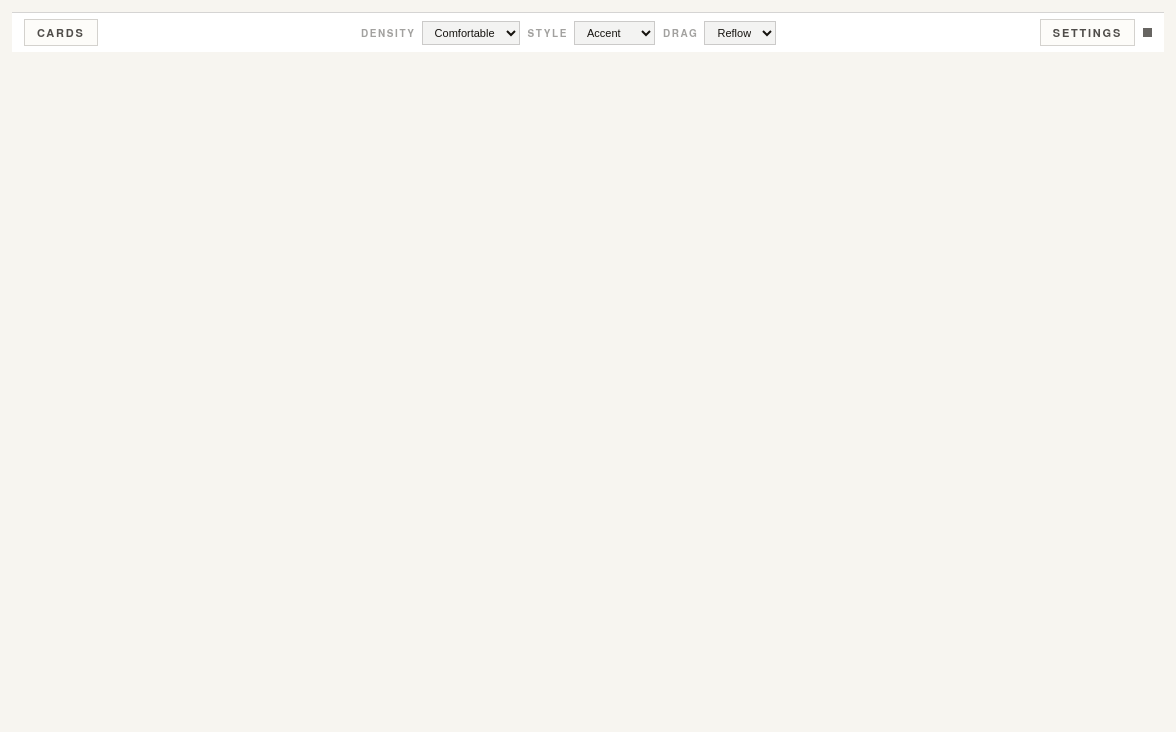
Test: <BottomNav> Cards menu › opens on click and closes when clicking outside the menu
The width and height of the screenshot is (1176, 732).
Click the button "Cards": point(61, 32) [24, 19, 98, 46]
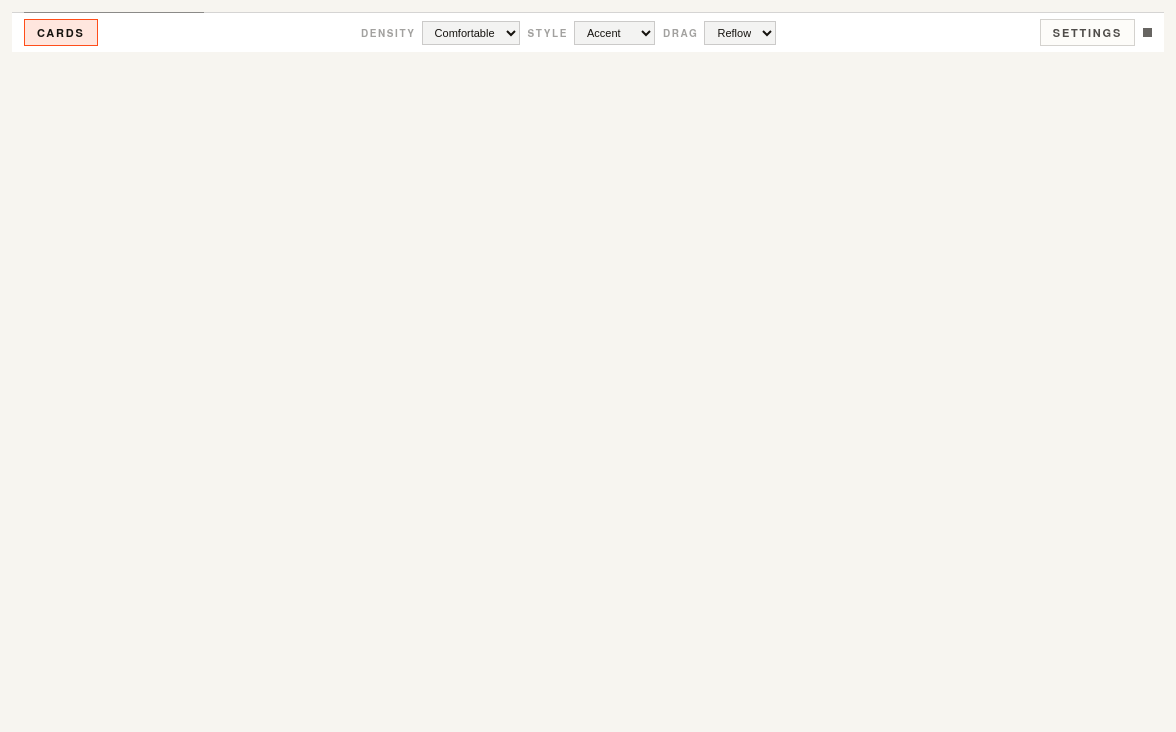
Expected: the button "Cards" is expanded, [24, 19, 98, 46]
The full-viewport scrim is what actually catches an "anywhere else" click.
Click the button named "close cards menu": point(588, 372) [12, 12, 1164, 731]
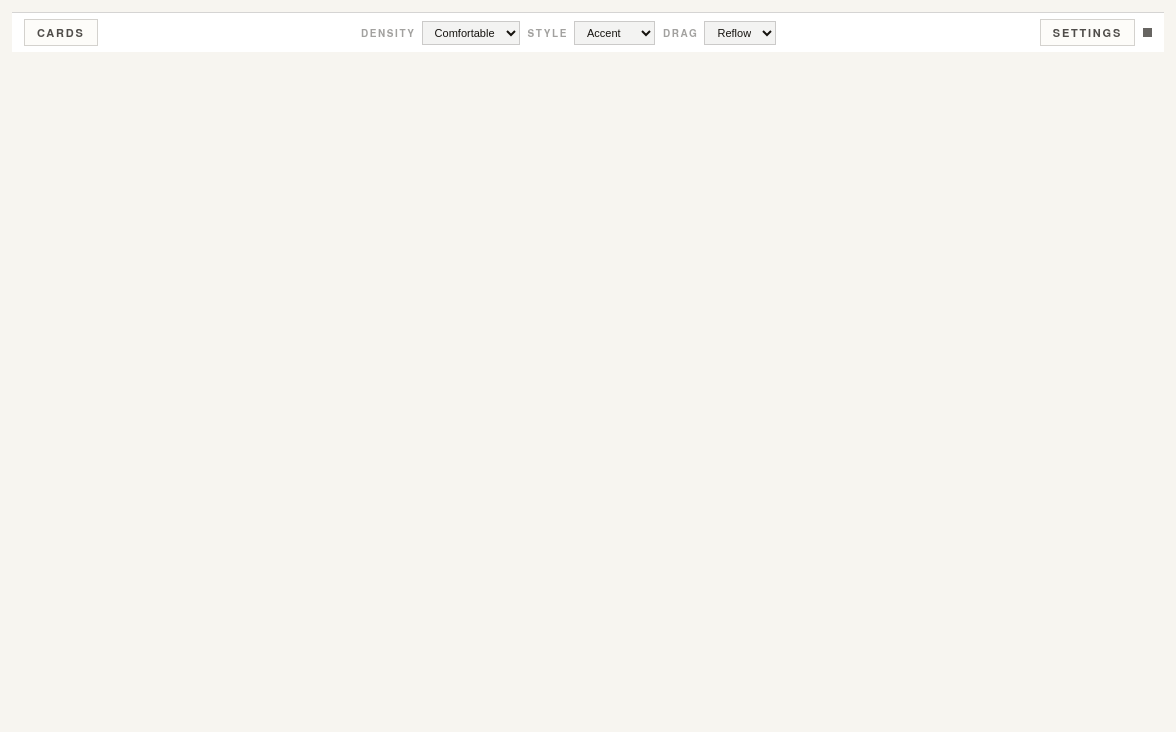
Expected: the button "Cards" is collapsed, [24, 19, 98, 46]
